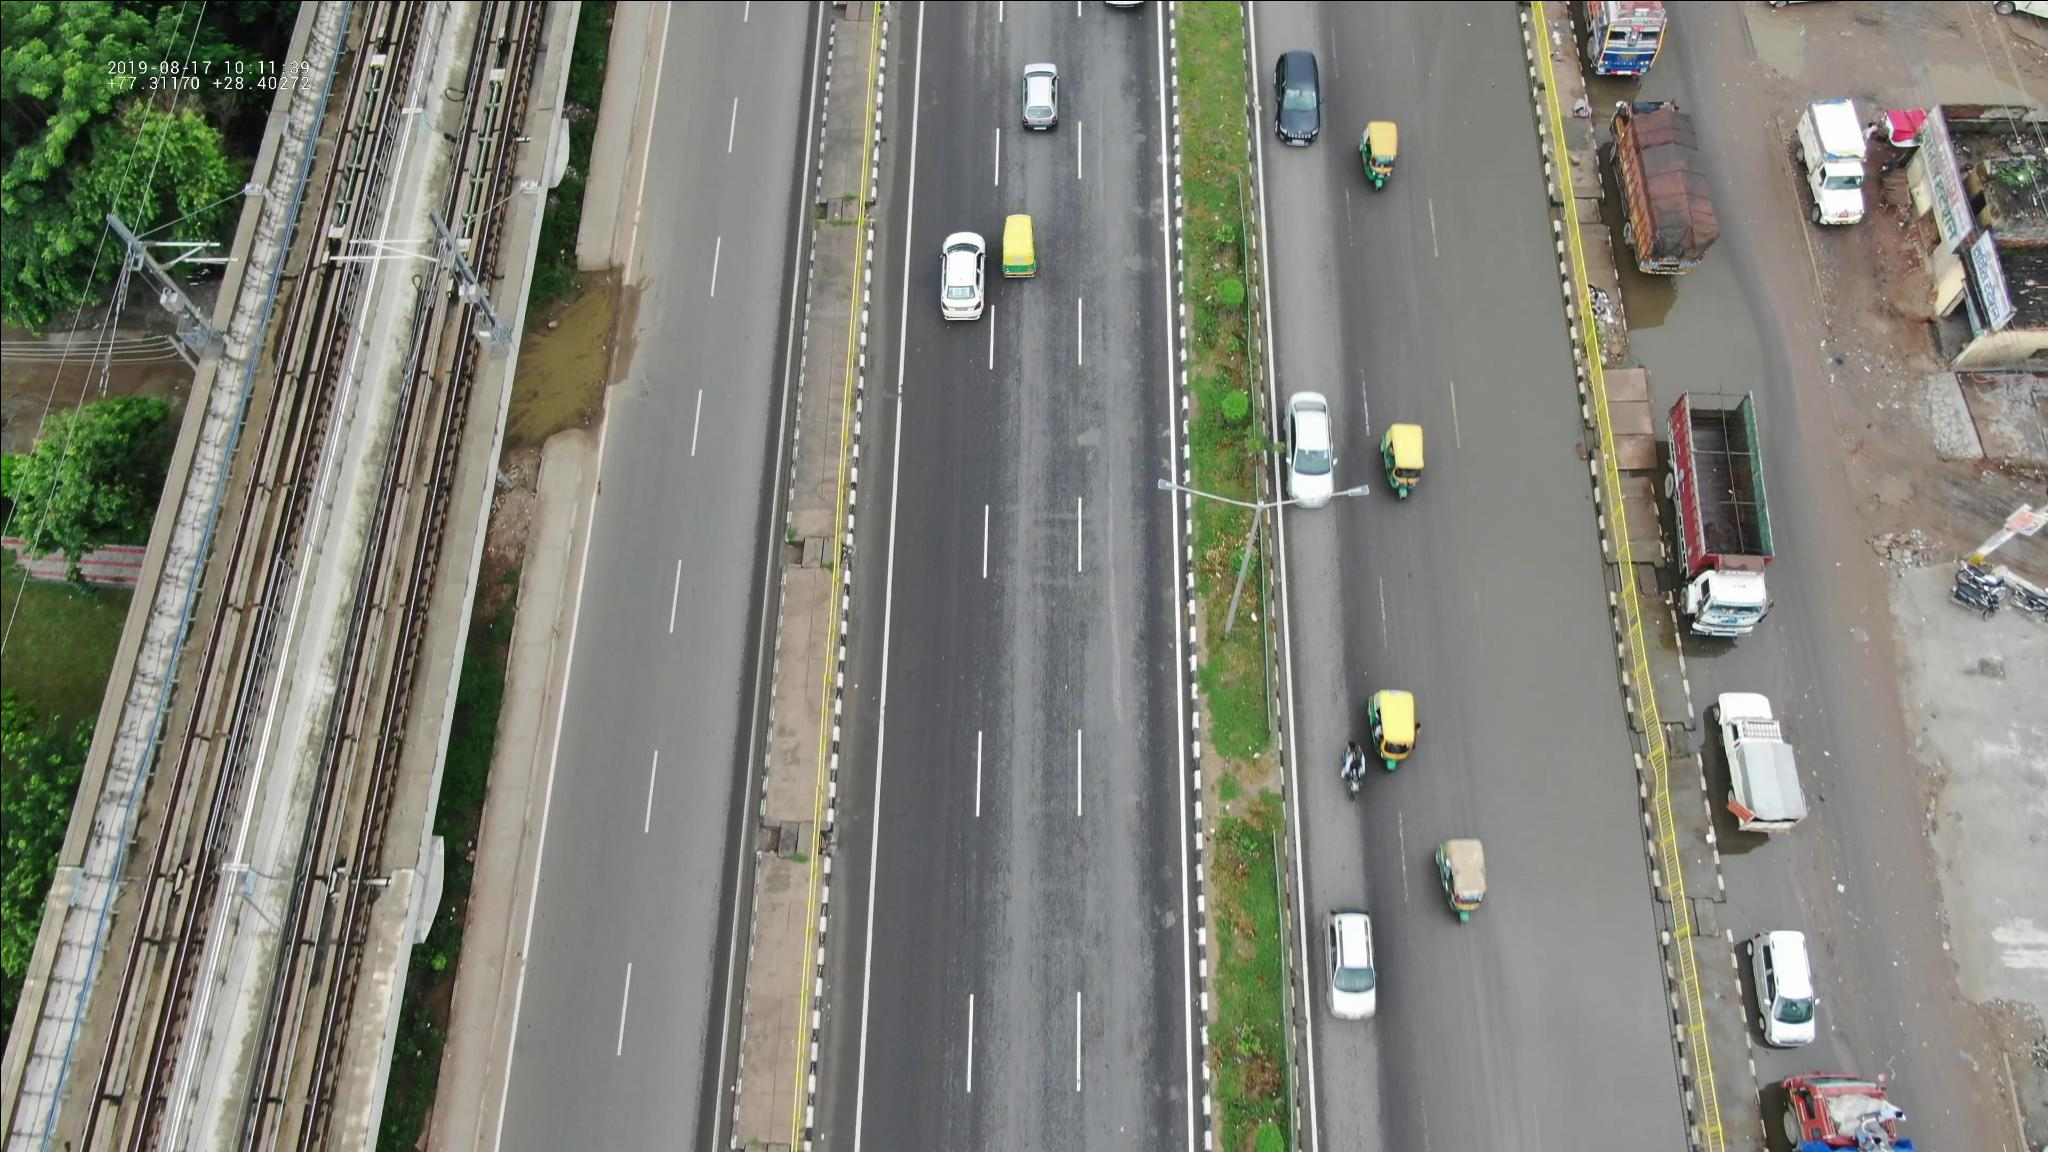Waterlogging: (1491, 816, 1682, 1068), (1454, 497, 1625, 724), (1429, 218, 1582, 449), (1411, 15, 1544, 188), (1620, 273, 1767, 381)
